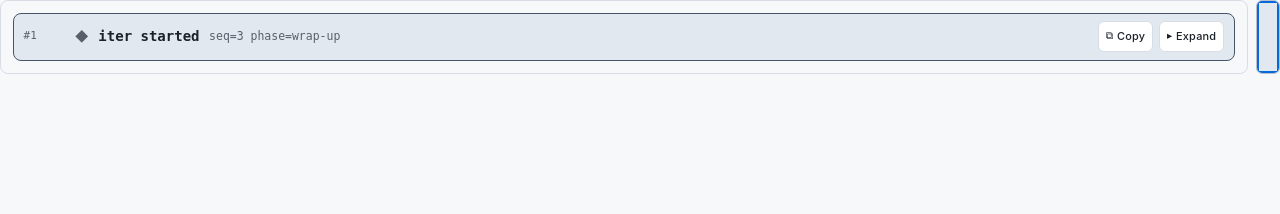
TimelinePane › boundary rows (iter_started etc.) are collapsible cards with click-to-toggle pretty JSON
The image size is (1280, 214).
Click the button with class "timeline__card-header" at (149, 36), box [14,14,1234,60]
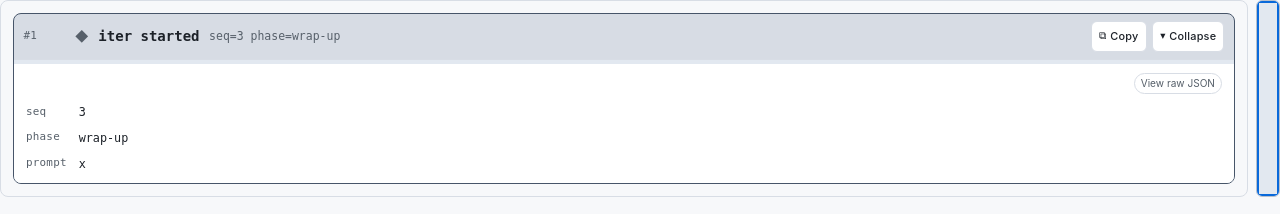
Expected: the element with test id "event-payload-view" is shown, [26,73,1222,173]
Expected: the element with test id "event-payload-view" shows "phase", [26,130,60,143]
Expected: the element with test id "event-payload-view" shows "wrap-up", [79,131,128,145]
